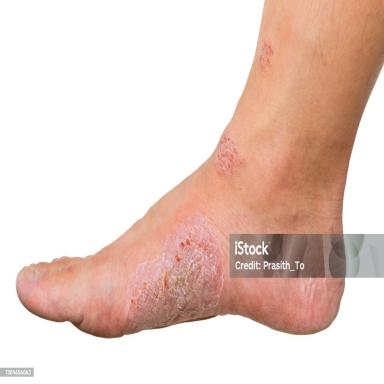eczema: (129, 225, 225, 331)
